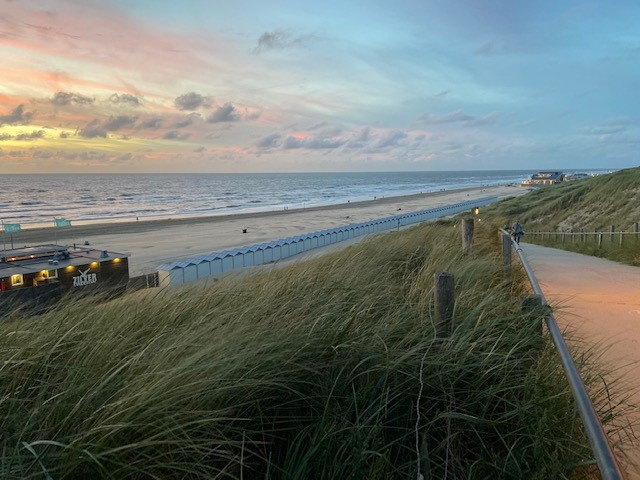pad: (499, 221, 640, 453)
